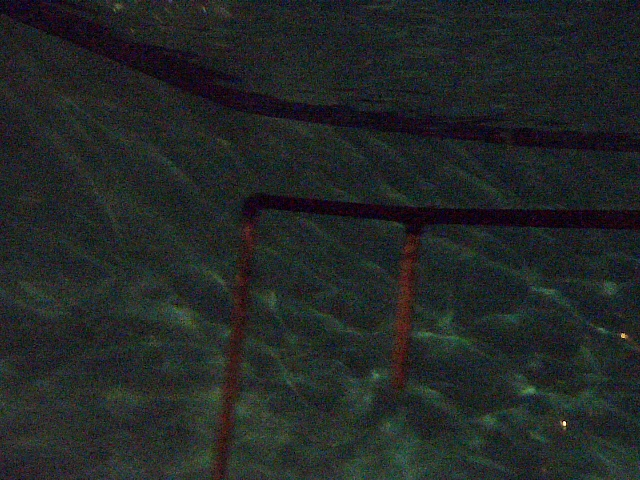Gate: (214, 222, 258, 480), (392, 231, 423, 394)
